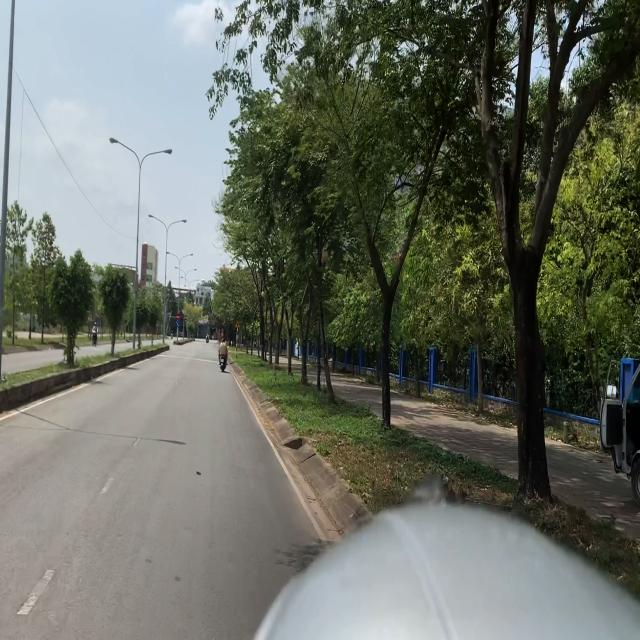Cam nguoc chieu: (176, 314, 180, 320)
Giao voi duong khong uu tien: (235, 320, 241, 328)
Hieu lenh: (176, 321, 180, 327)
